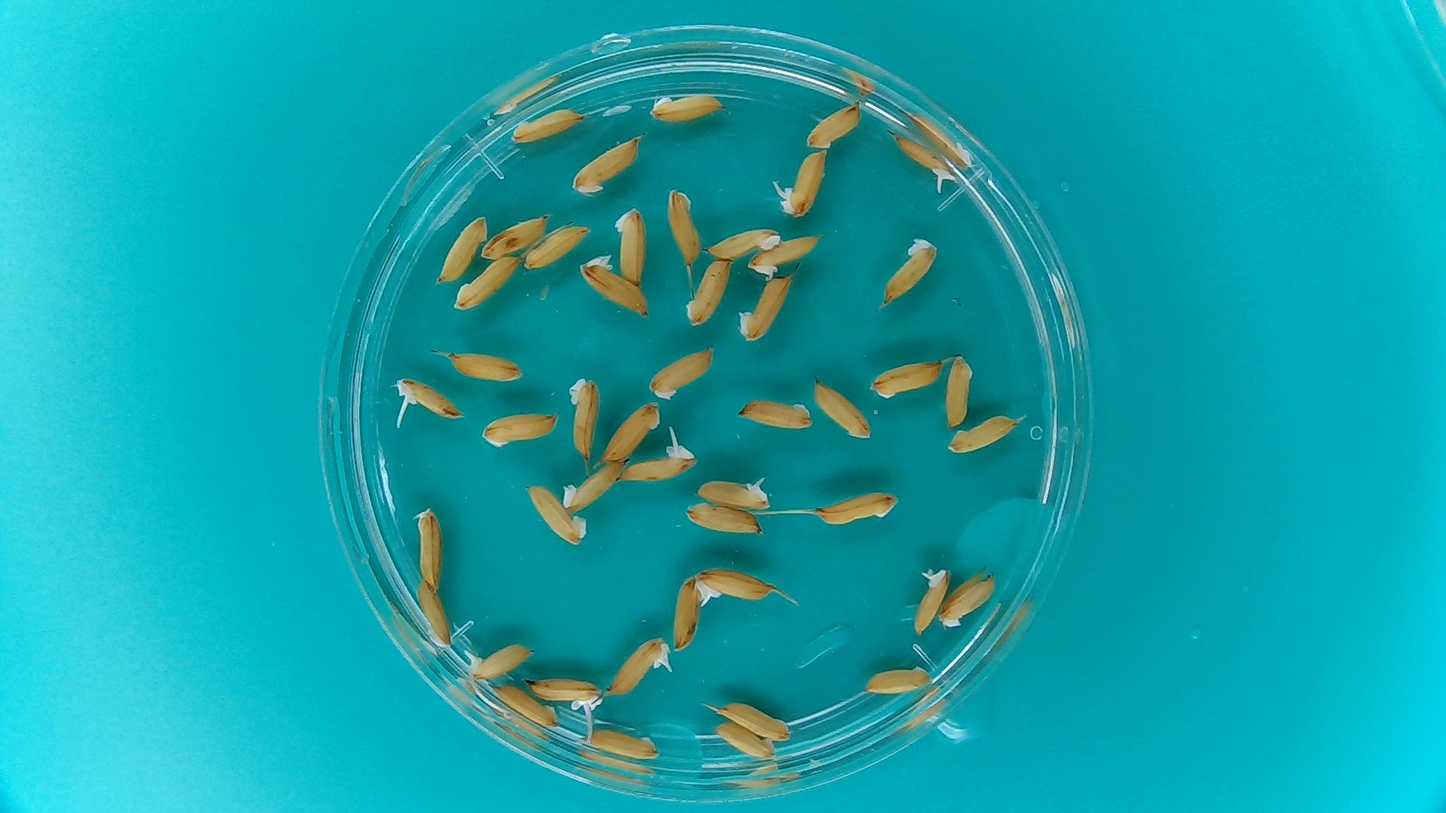no: (450, 250, 530, 312), (576, 257, 653, 321), (879, 236, 939, 312), (570, 136, 644, 197), (560, 455, 633, 516), (599, 400, 665, 465), (744, 231, 828, 281), (434, 212, 489, 288), (810, 375, 874, 440), (524, 483, 587, 549), (938, 562, 996, 630), (737, 276, 795, 343), (478, 209, 551, 262), (520, 222, 594, 273), (487, 681, 562, 731), (480, 408, 562, 452), (717, 697, 797, 742), (684, 256, 734, 327), (647, 346, 715, 398), (868, 357, 945, 401), (943, 411, 1017, 456), (804, 99, 865, 151), (665, 185, 704, 266), (669, 573, 708, 653), (611, 206, 647, 290), (814, 491, 899, 526), (704, 225, 786, 261), (510, 107, 585, 146), (683, 502, 766, 537), (581, 726, 664, 760), (712, 718, 779, 760), (568, 376, 601, 459), (414, 580, 453, 650), (942, 352, 977, 429), (447, 349, 524, 384), (732, 397, 815, 429), (414, 507, 444, 593), (648, 91, 726, 123), (865, 662, 933, 698)
yes: (605, 636, 667, 693), (693, 564, 774, 604), (523, 674, 606, 713), (780, 152, 829, 218), (464, 641, 535, 684), (890, 132, 953, 180), (912, 565, 954, 637), (618, 443, 686, 485), (693, 475, 770, 511), (396, 380, 460, 419)
